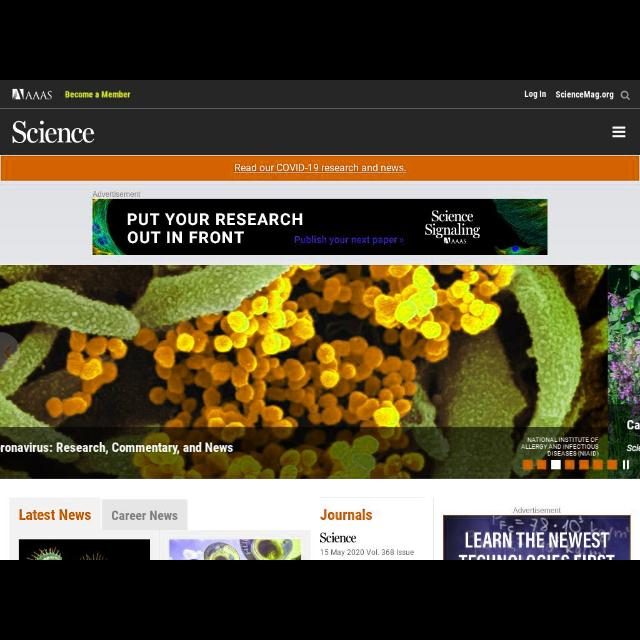icon: (612, 125, 626, 138), (621, 90, 631, 102)
iframe: (92, 199, 548, 255), (444, 515, 630, 559)
image: (1, 265, 640, 477), (170, 539, 300, 559), (20, 540, 150, 558), (12, 88, 52, 100)
pageindicator: (522, 460, 618, 470)
text: (12, 120, 94, 144), (234, 164, 406, 172), (320, 549, 414, 557), (19, 510, 91, 520), (112, 510, 178, 520), (556, 90, 614, 100), (65, 90, 131, 98), (320, 510, 372, 520), (320, 533, 356, 543), (526, 91, 546, 99)
toolbar: (1, 80, 640, 108)
